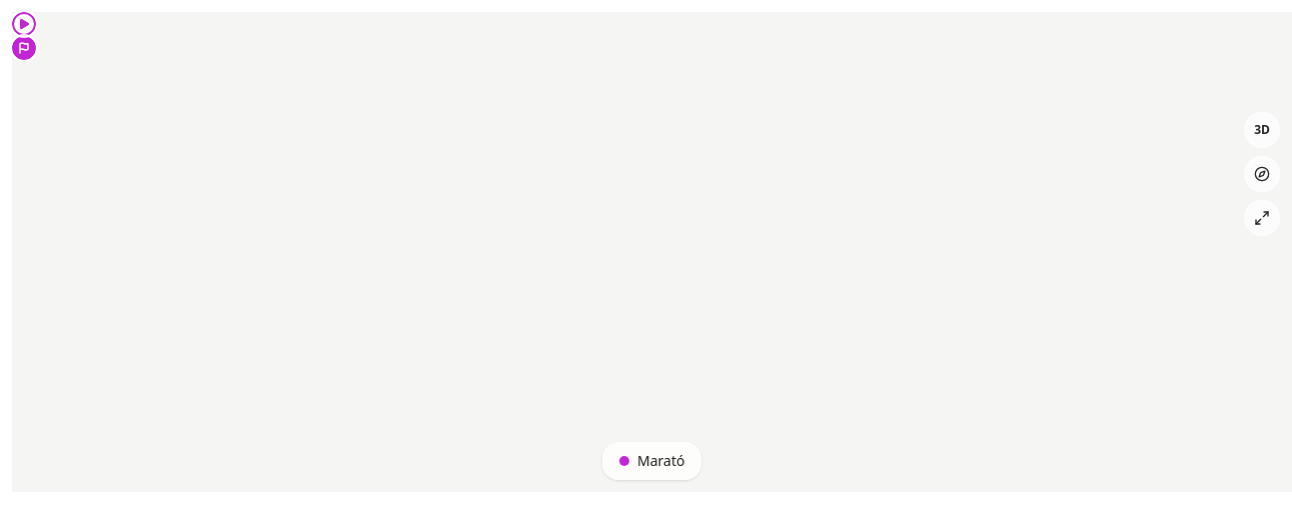
Test: EventTrackMap › warns about a slow load, cancels cleanly, and ignores stale readiness
The image size is (1292, 509).
Click the button with test id "event-track-map-terrain-toggle". click: x=1262, y=130
box: [1244, 112, 1280, 148]
Wait 8000 ms
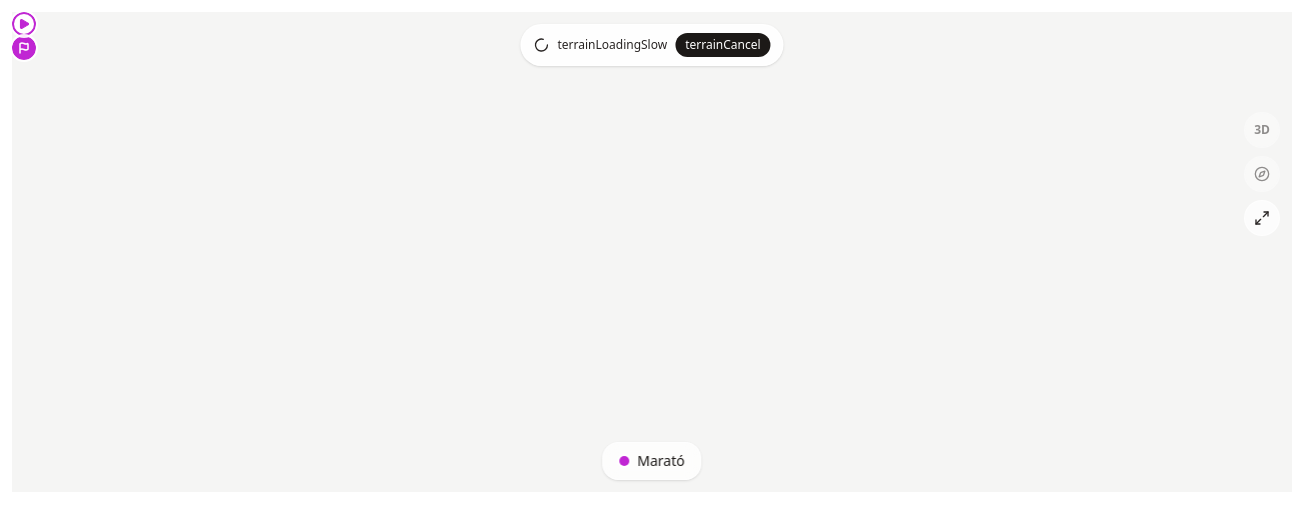
Now the element with test id "event-track-map-terrain-status" shows "terrainLoadingSlow", box [558, 36, 667, 53]
Now the button with test id "event-track-map-rotation-button" is disabled, box [1244, 156, 1280, 192]
Click the button "terrainCancel". click: x=723, y=45
box: [675, 33, 771, 57]
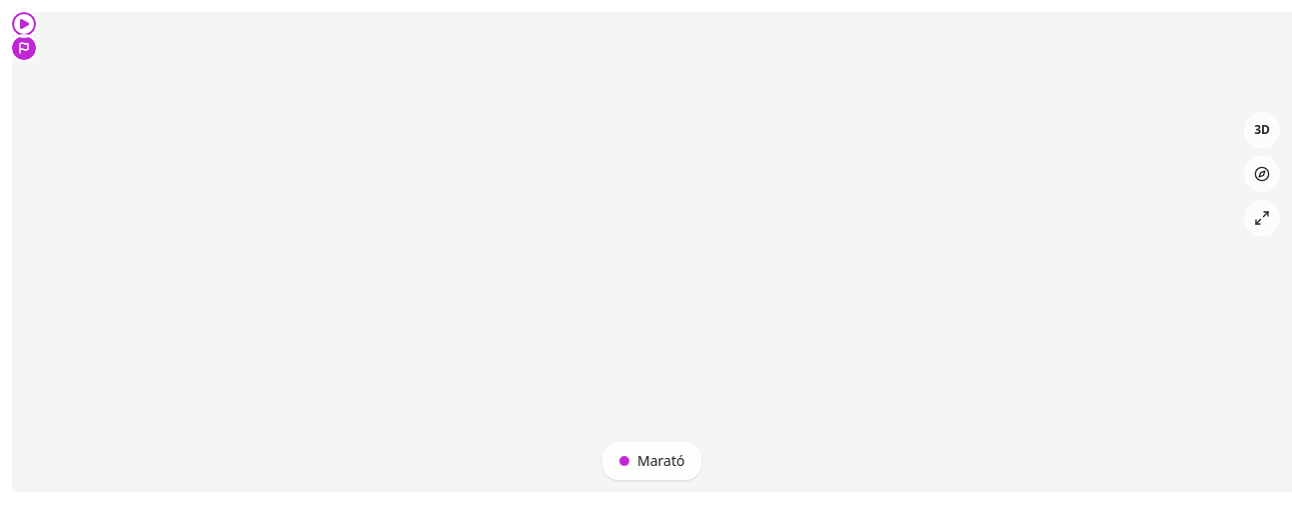
Now the element with test id "event-track-map-terrain-status" is gone
